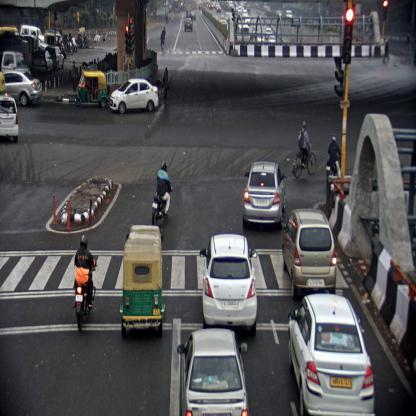car: (288, 294, 374, 416), (200, 231, 258, 338), (177, 329, 248, 415), (283, 209, 336, 294), (242, 161, 286, 230), (108, 80, 159, 114), (3, 69, 41, 108), (0, 96, 18, 144), (184, 17, 192, 32)
motorcycle: (74, 235, 96, 330), (151, 160, 174, 225), (291, 121, 315, 181), (325, 133, 341, 181)
